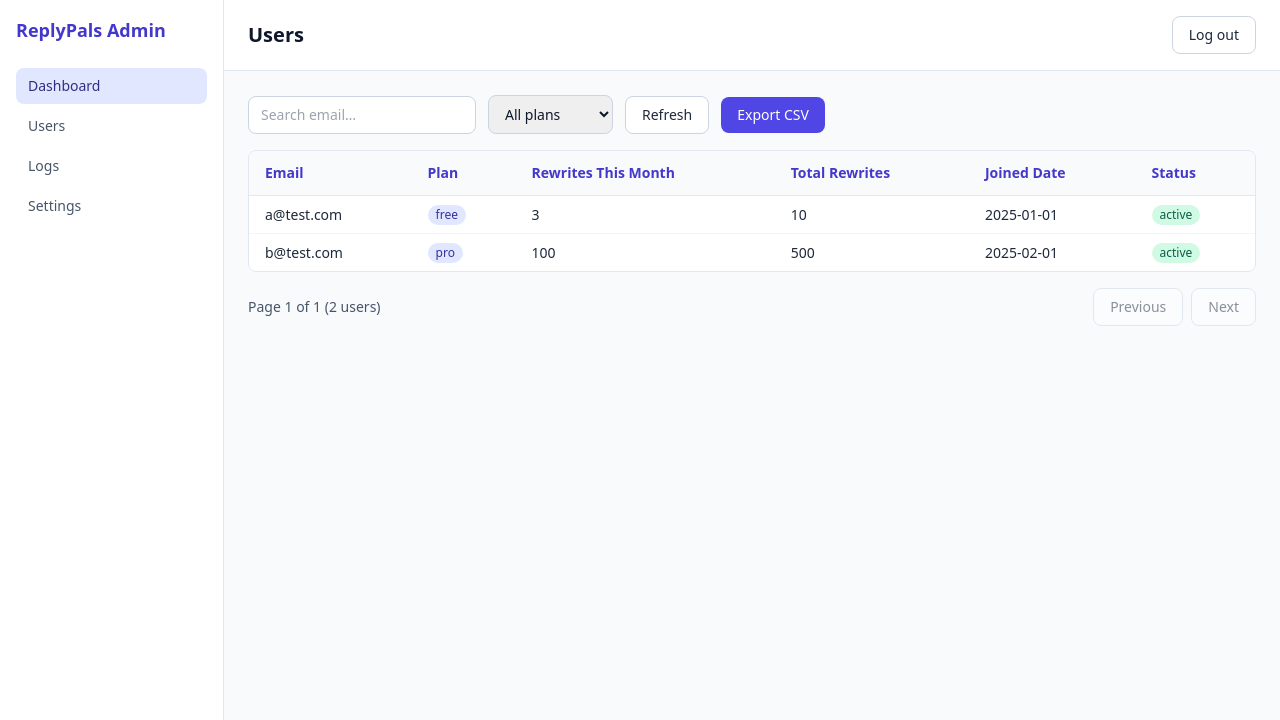
Test case: UsersPage › search filter narrows rows to matching emails
Expected: the text "b@test.com" is shown, [249,234,412,271]
In the search field with placeholder "Search email…": (362, 114) [248,96,476,134], type "a@test"
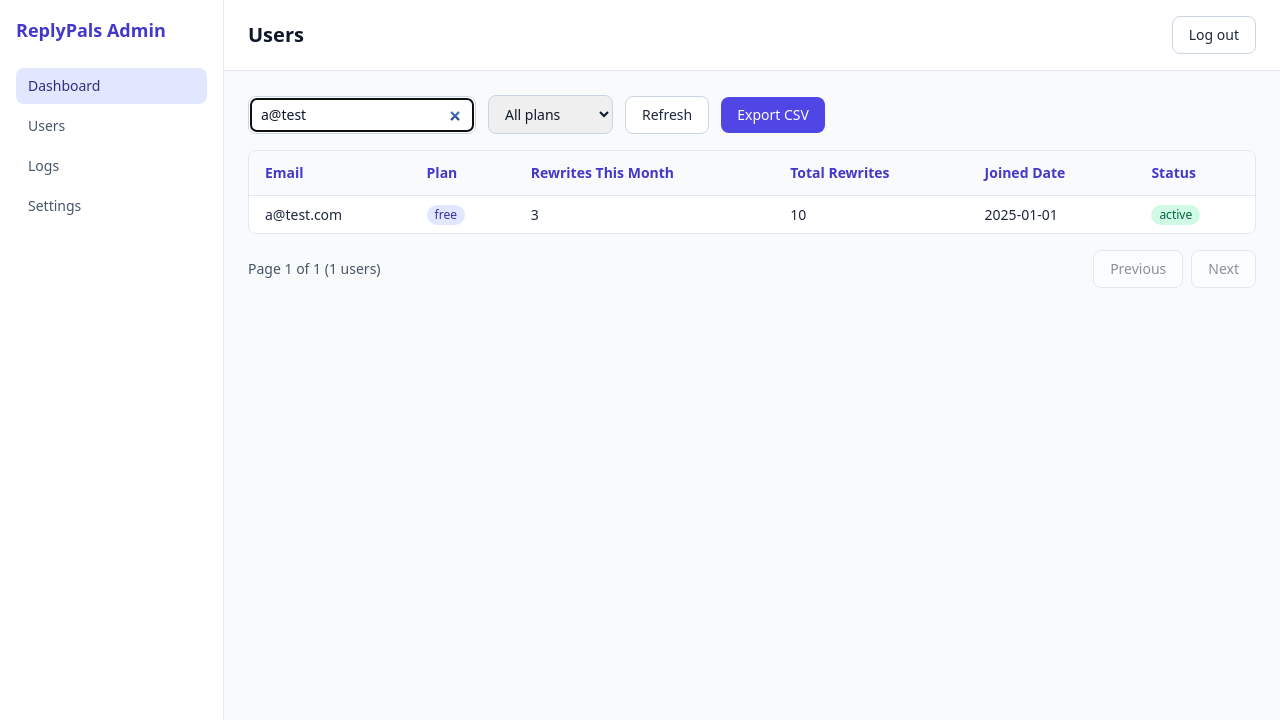
Result: the text "b@test.com" is gone
